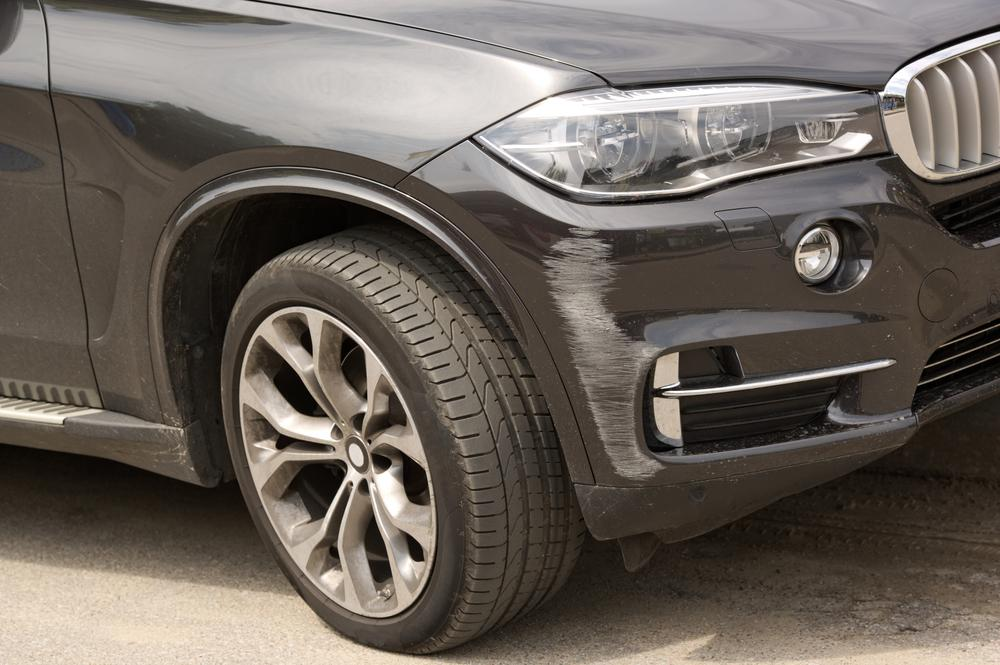scratch: (544, 212, 666, 485)
